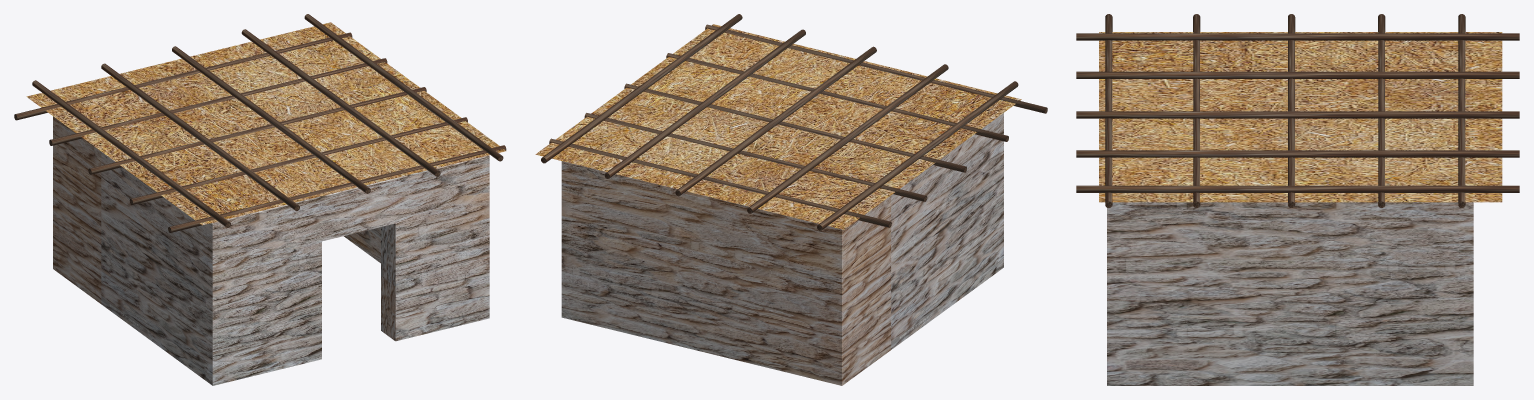
File: rumah 2.fbx
3 renders of one model, left to right at view 1: azimuth 30°, elevation 25°; view 2: azimuth 150°, elevation 25°; view 3: azimuth 270°, elevation 25°, orthographic. The views are drawn at different scales.
Visible parts, largest first — view 1: Plane, Plane.001, Cylinder.028, Cylinder.021, Cylinder.025, Cylinder.027, Cylinder.026, Cylinder.001, Cylinder.022, Cylinder.024, Cylinder.020, Cylinder.023; view 2: Plane, Plane.001, Cylinder.027, Cylinder.021, Cylinder.025, Cylinder.026, Cylinder.028, Cylinder.024, Cylinder.001, Cylinder.020, Cylinder.022, Cylinder.023; view 3: Plane, Plane.001, Cylinder.025, Cylinder.026, Cylinder.027, Cylinder.028, Cylinder.021, Cylinder.001, Cylinder.020, Cylinder.024, Cylinder.023, Cylinder.022.
Boxes of the visible parts, left/top/right/bottom form: Plane: left=53, top=116, right=489, bottom=385; Plane.001: left=26, top=22, right=506, bottom=225; Cylinder.028: left=241, top=29, right=440, bottom=176; Cylinder.021: left=32, top=80, right=230, bottom=227; Cylinder.025: left=304, top=14, right=503, bottom=161; Cylinder.027: left=101, top=63, right=299, bottom=210; Cylinder.026: left=172, top=46, right=370, bottom=193; Cylinder.001: left=14, top=32, right=352, bottom=120; Cylinder.022: left=88, top=87, right=426, bottom=174; Cylinder.024: left=49, top=58, right=387, bottom=145; Cylinder.020: left=168, top=145, right=506, bottom=232; Cylinder.023: left=129, top=117, right=467, bottom=204; Plane: left=561, top=113, right=1003, bottom=385; Plane.001: left=535, top=24, right=1021, bottom=229; Cylinder.027: left=747, top=64, right=948, bottom=213; Cylinder.021: left=817, top=81, right=1018, bottom=230; Cylinder.025: left=541, top=14, right=742, bottom=163; Cylinder.026: left=675, top=46, right=876, bottom=196; Cylinder.028: left=604, top=29, right=805, bottom=178; Cylinder.024: left=584, top=113, right=927, bottom=201; Cylinder.001: left=549, top=138, right=891, bottom=227; Cylinder.020: left=705, top=24, right=1047, bottom=113; Cylinder.022: left=624, top=83, right=966, bottom=172; Cylinder.023: left=666, top=53, right=1008, bottom=141; Plane: left=1107, top=202, right=1473, bottom=385; Plane.001: left=1099, top=32, right=1502, bottom=202; Cylinder.025: left=1076, top=185, right=1519, bottom=192; Cylinder.026: left=1076, top=111, right=1519, bottom=118; Cylinder.027: left=1076, top=71, right=1519, bottom=78; Cylinder.028: left=1076, top=150, right=1519, bottom=157; Cylinder.021: left=1076, top=33, right=1519, bottom=40; Cylinder.001: left=1458, top=14, right=1465, bottom=207; Cylinder.020: left=1105, top=14, right=1112, bottom=207; Cylinder.024: left=1378, top=14, right=1385, bottom=207; Cylinder.023: left=1193, top=14, right=1200, bottom=207; Cylinder.022: left=1288, top=14, right=1295, bottom=207.
Size of the model in its own units: 1211 by 598 by 1211.
